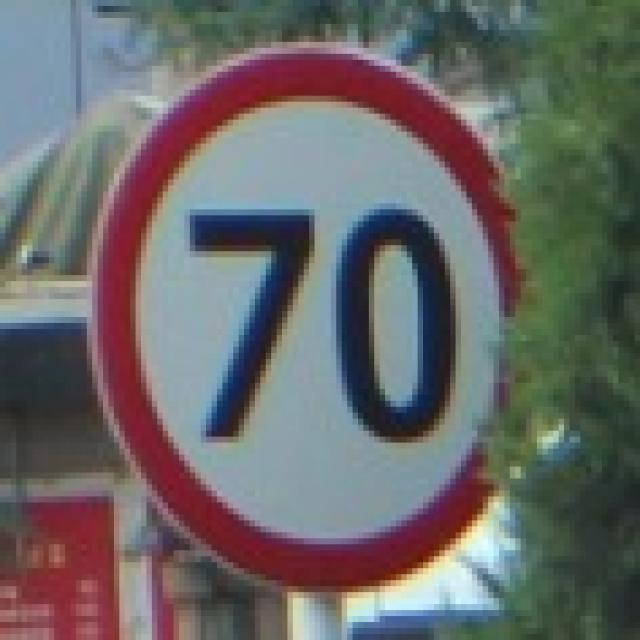Speed Limit -70-: (183, 200, 462, 448)
